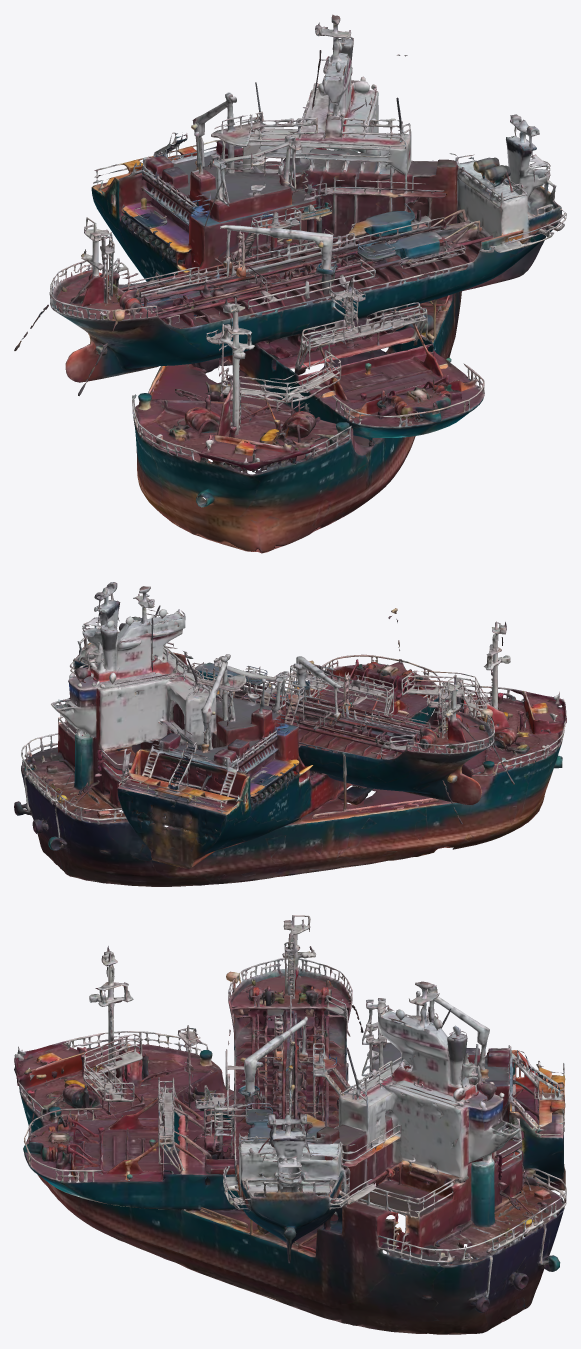
The model's file is union_2026-05-06T113237.047.glb.
3 renders of one model, top to bottom at view 1: azimuth 30°, elevation 25°; view 2: azimuth 150°, elevation 25°; view 3: azimuth 270°, elevation 25°, orthographic. The views are drawn at different scales.
Parts seen in each view (by area): view 1: world; view 2: world; view 3: world.
Boxes of the visible parts, x1,y1,x2,y2 form: world: (14,14,566,553); world: (14,582,566,886); world: (14,915,566,1334).
Bounding box in the file's own units: 0.9994 × 0.6126 × 1.
1 material, 1 textured.
